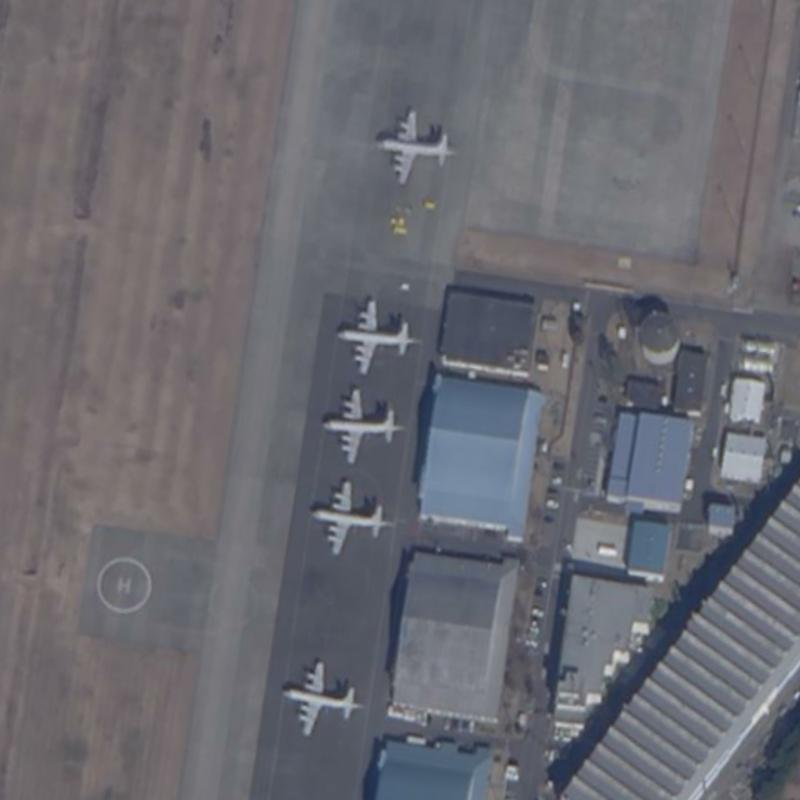A9: (329, 290, 422, 383), (301, 472, 397, 561), (310, 379, 408, 465), (277, 653, 369, 742), (373, 99, 462, 188)
